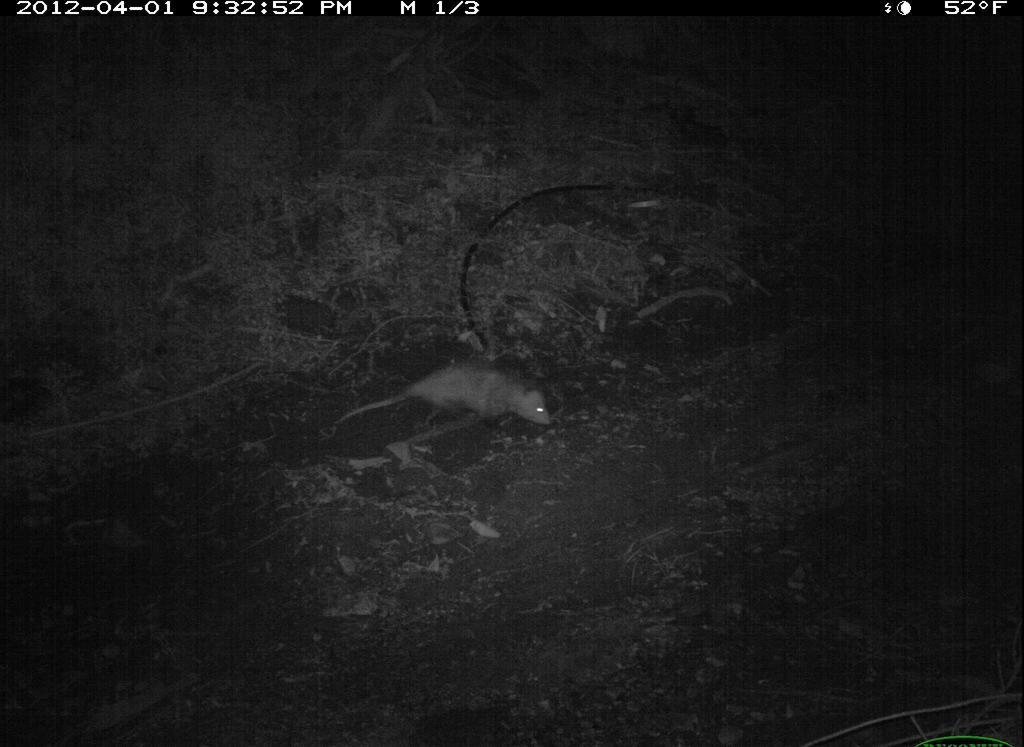opossum: (335, 363, 565, 452)
